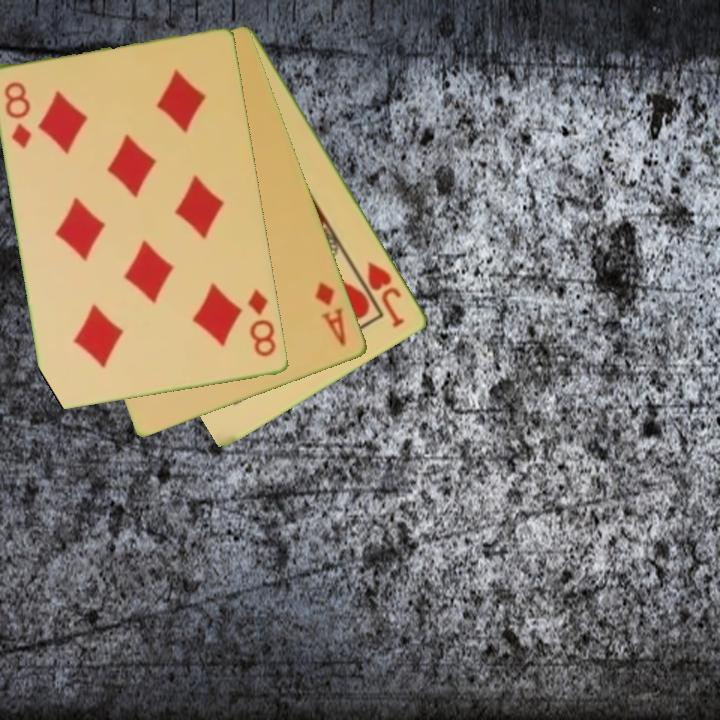8d: (245, 286, 280, 360), (1, 78, 35, 152)
Ad: (311, 278, 350, 349)
Jh: (364, 258, 408, 331)
